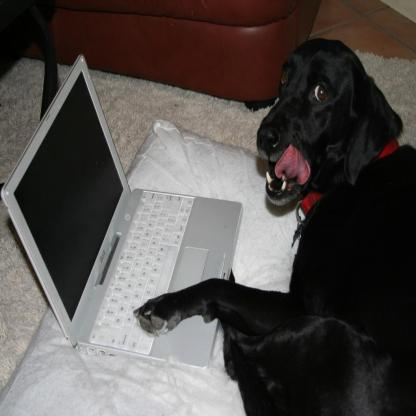board: (1, 53, 244, 376)
